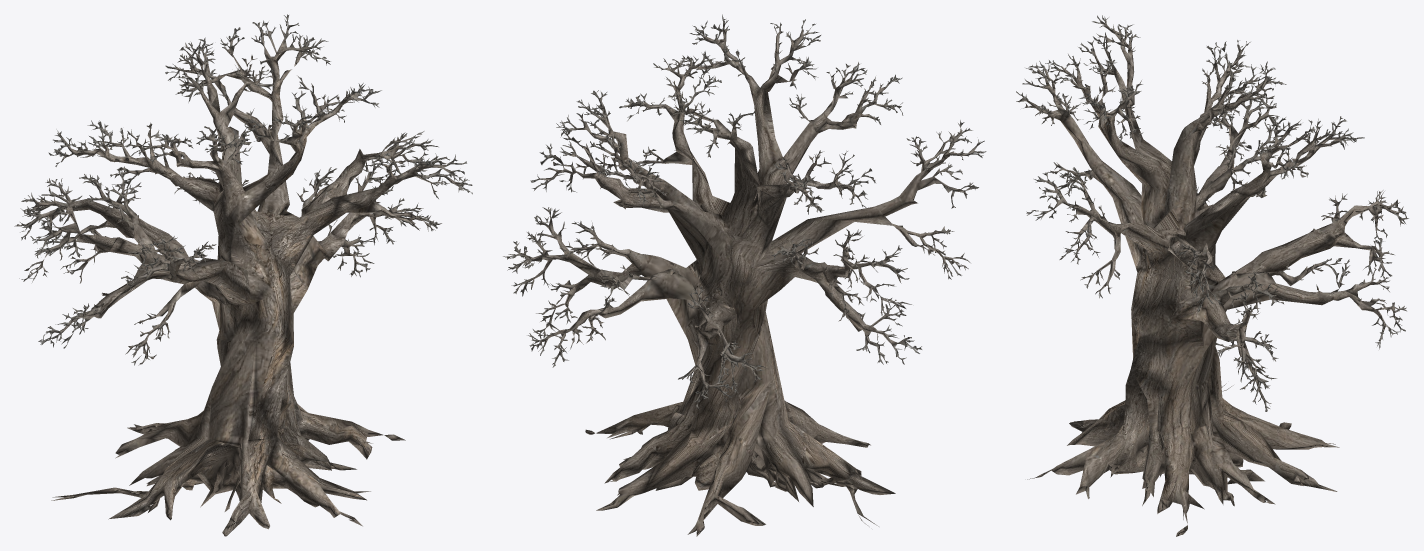
File: tree_sentinel.glb
The picture shows the model from 3 angles, left to right: view 1: azimuth 30°, elevation 25°; view 2: azimuth 150°, elevation 25°; view 3: azimuth 270°, elevation 25°; orthographic projection. The views are drawn at different scales.
Visible parts, largest first — view 1: tree_sentinel; view 2: tree_sentinel; view 3: tree_sentinel.
Part boxes in pixels (bbox=[...]): tree_sentinel: bbox=[14, 14, 472, 536]; tree_sentinel: bbox=[503, 14, 986, 536]; tree_sentinel: bbox=[1016, 15, 1408, 536].
Size of the model in its own units: 189 by 187 by 166.
1 material, 1 textured.
